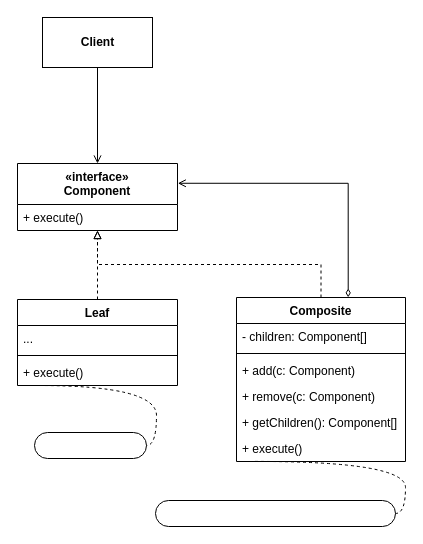
This 423x544 diagram has some shape labels left out. Each missing label, with the centre of its shape:
Delegate all work to child components.: point (275, 513)
Do some work: point (90, 445)
